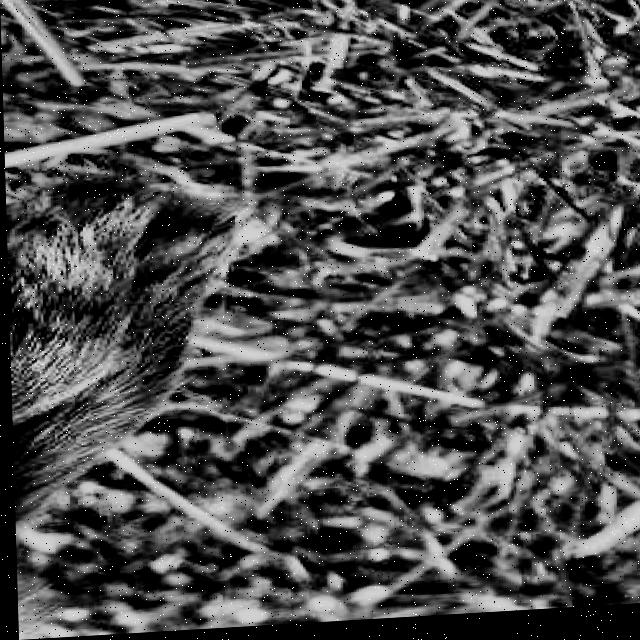rabbit: (0, 0, 339, 640)
